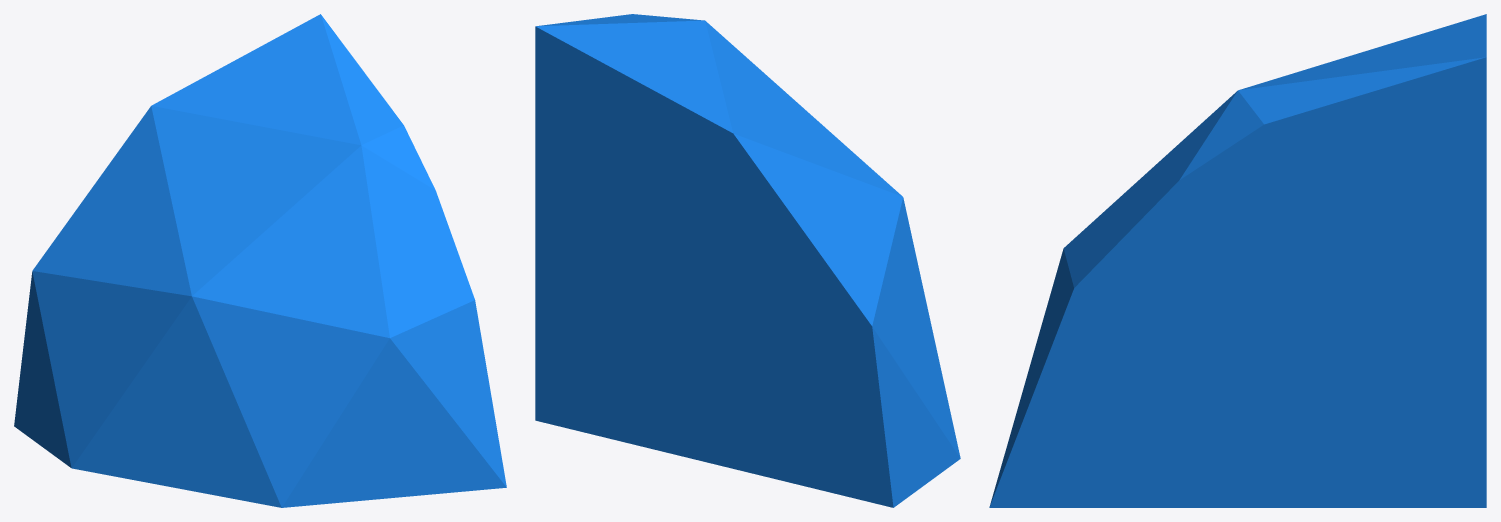
The model's file is Proto_Block_Quarter_Sphere_Hedron_03.fbx.
The picture shows the model from 3 angles, left to right: view 1: azimuth 30°, elevation 25°; view 2: azimuth 150°, elevation 25°; view 3: azimuth 270°, elevation 25°; orthographic projection. The views are drawn at different scales.
Visible parts, largest first — view 1: Proto_Block_Quarter_Sphere_Hedron_03; view 2: Proto_Block_Quarter_Sphere_Hedron_03; view 3: Proto_Block_Quarter_Sphere_Hedron_03.
Boxes of the visible parts, x1,y1,x2,y2 form: Proto_Block_Quarter_Sphere_Hedron_03: (14, 14, 506, 507); Proto_Block_Quarter_Sphere_Hedron_03: (535, 14, 960, 507); Proto_Block_Quarter_Sphere_Hedron_03: (989, 14, 1486, 507).
Size of the model in its own units: 0.4719 by 0.4962 by 0.4962.
